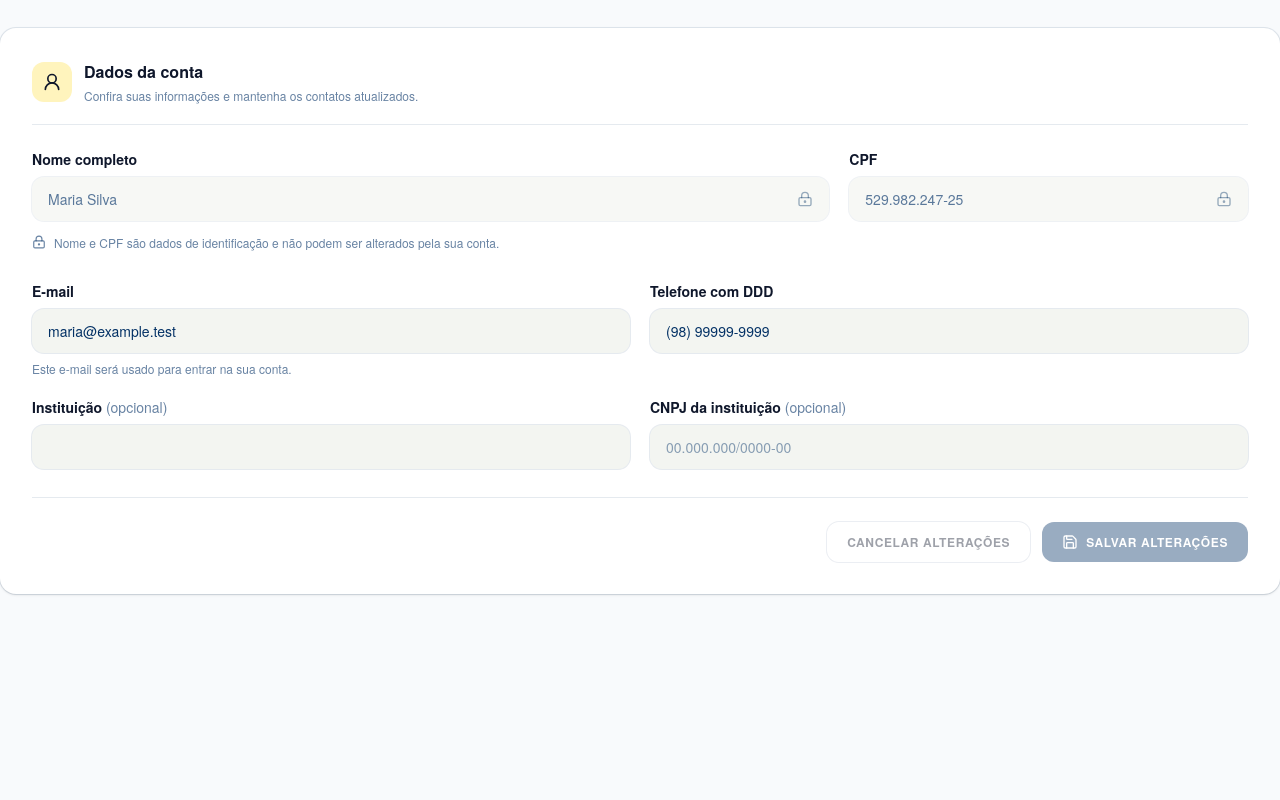
Test: mantém nome e CPF bloqueados e envia apenas dados editáveis
Expected: the field labelled "Nome completo" is disabled, [32,177,829,221]
Expected: the field labelled "CPF" is disabled, [849,177,1248,221]
Step 1. Type "98988887777" into the field labelled "Telefone com DDD" → (949, 330), box [650,308,1248,352]
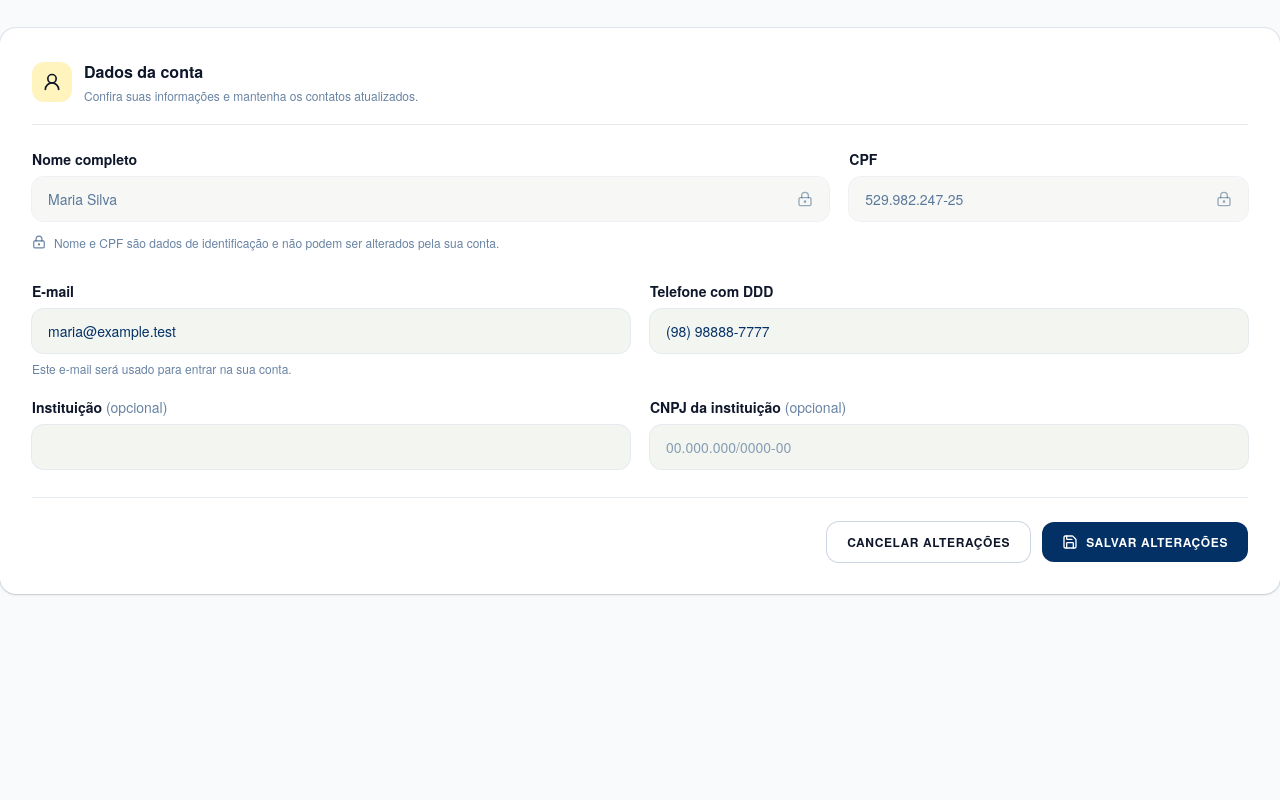
Step 2. Click the button "Salvar alterações" → (1145, 542), box [1042,522,1248,562]
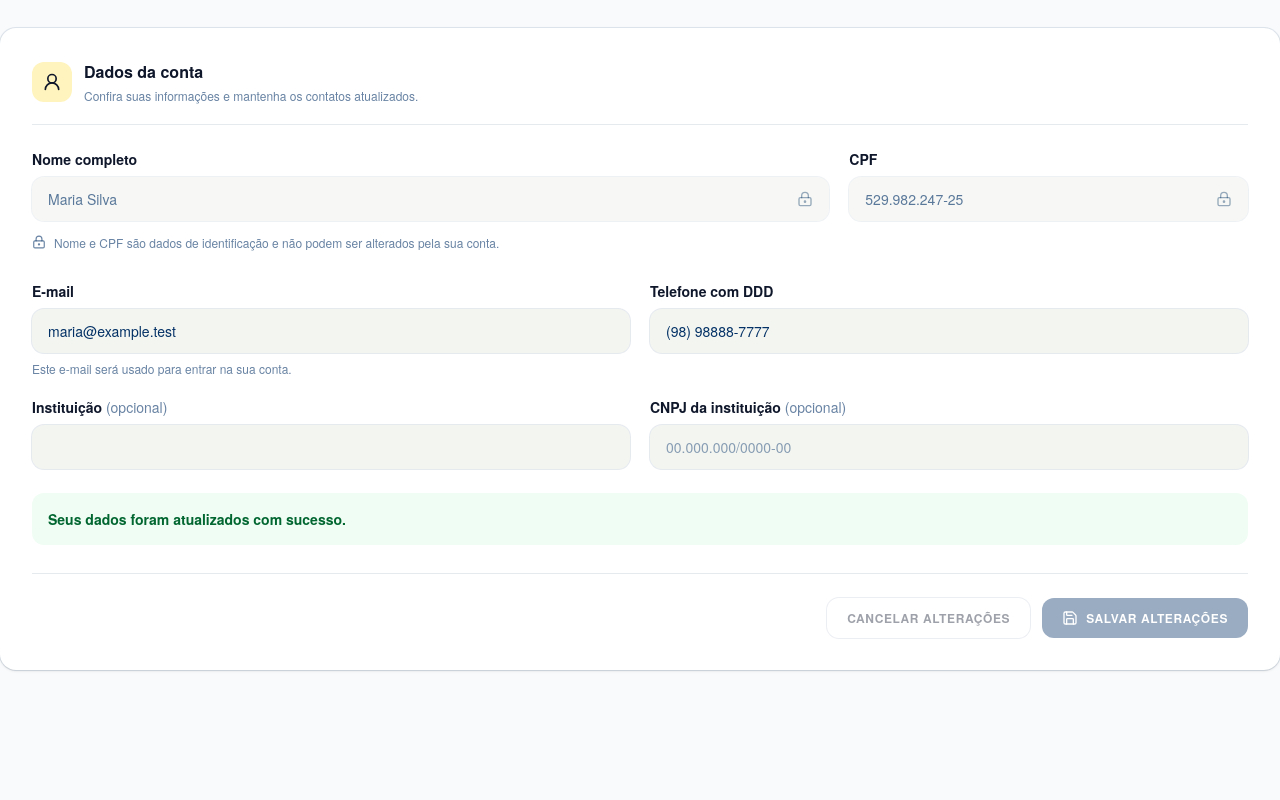
Expected: the message shows "atualizados com sucesso", [48,508,346,528]
